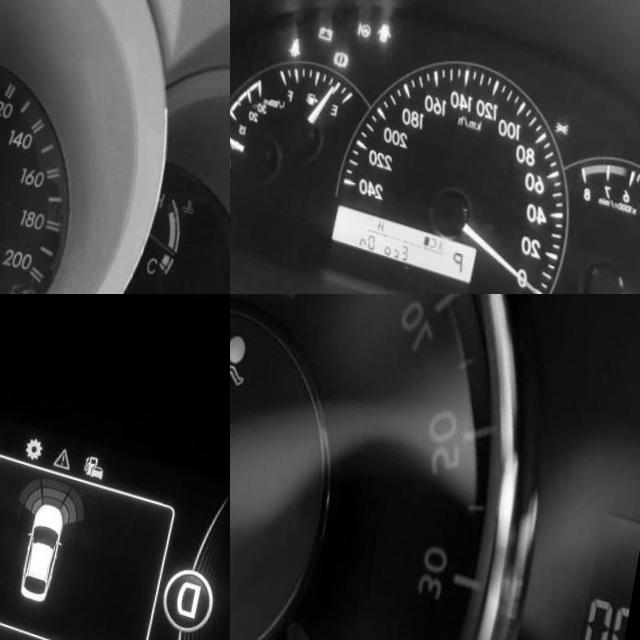Central Warning lamp: (61, 427, 81, 452)
Electronic Power Steering: (364, 12, 379, 30)
Seat Belt: (296, 29, 311, 52)
